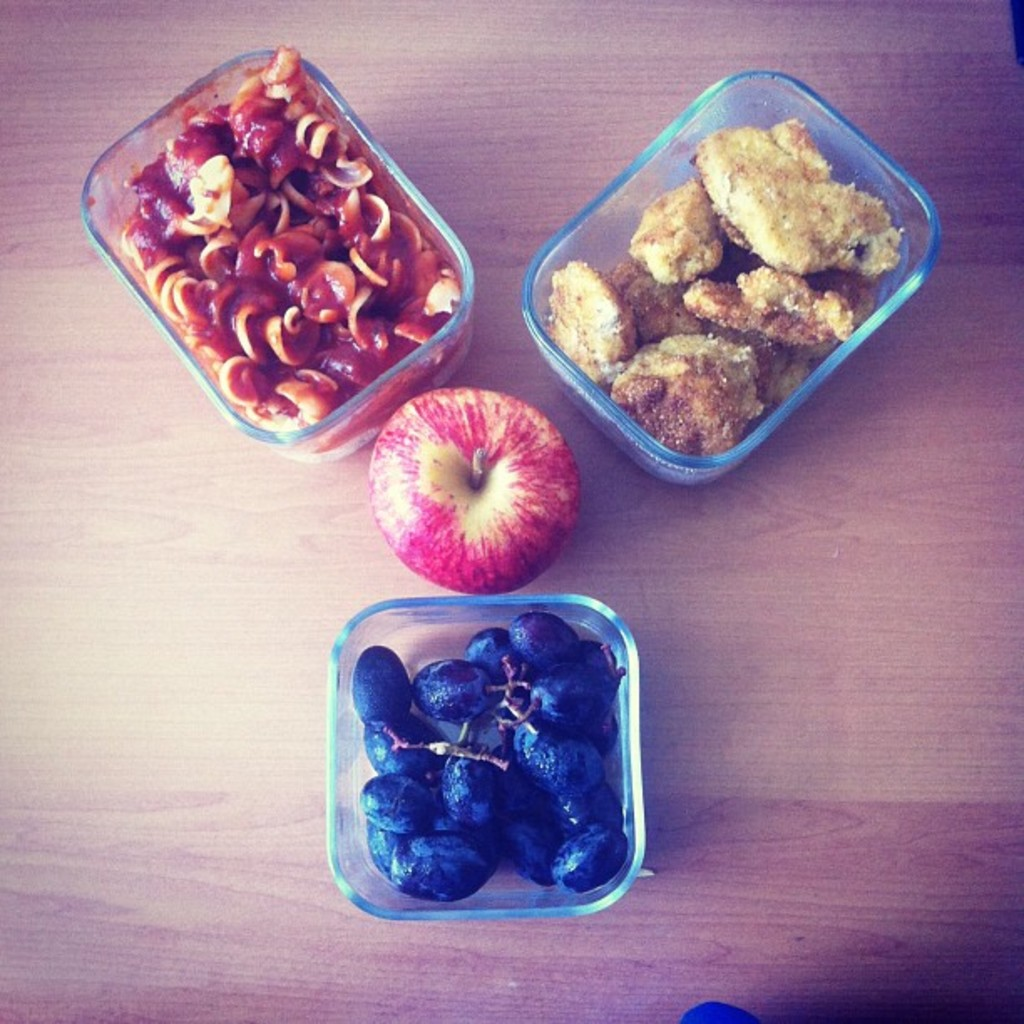Apple: (388, 389, 610, 600)
